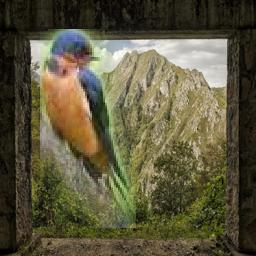Swallow: (40, 30, 136, 229)
